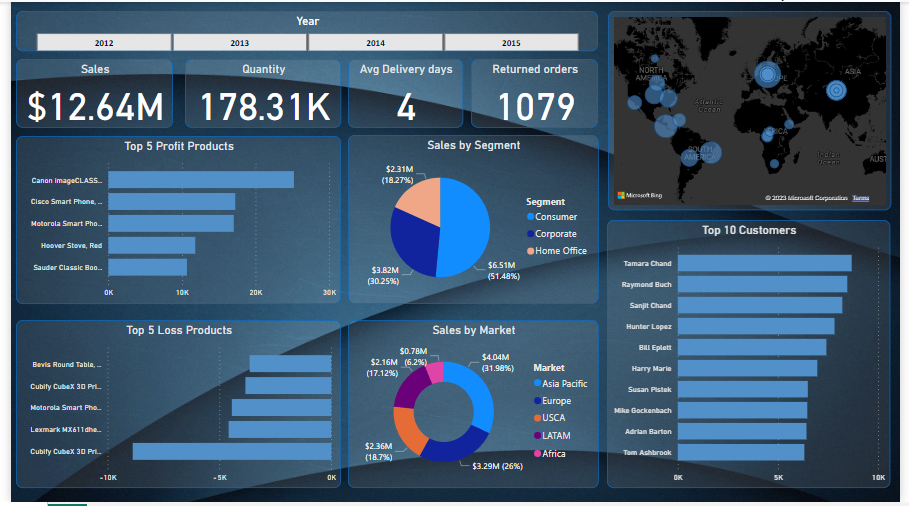

This screenshot's page, from the dashboard's own definition file:
{"tool":"powerbi","page":{"name":"Page 1","canvas":[1280,720],"ordinal":0},"visuals":[{"type":"card","title":"Sales","fields":{"Values":["Orders.Sales"]},"box":[7.2,82.1,226.1,99.4],"z":0},{"type":"card","title":"Quantity","fields":{"Values":["Orders.Quantity"]},"box":[250.6,82.1,224.6,99.4],"z":1000},{"type":"card","title":"Avg Delivery days","fields":{"Values":["Orders.delivery days"]},"box":[485.3,82.1,165.6,99.4],"z":2000},{"type":"slicer","title":"Year","fields":{"Values":["Orders.year"]},"box":[7.2,13,838.1,57.6],"z":3000},{"type":"card","title":"Returned orders","fields":{"Values":["Returns.Return orders"]},"box":[662.4,82.1,182.9,99.4],"z":4000},{"type":"map","fields":{"Size":["Orders.Sales"],"Category":["Orders.Region"]},"box":[859.7,13,407.5,286.6],"z":4001},{"type":"clusteredBarChart","title":"Top 5 Profit Products","fields":{"Category":["Orders.Product Name"],"Y":["Orders.Profit"]},"box":[6.7,192.9,468,241.6],"z":4002},{"type":"clusteredBarChart","title":"Top 5  Loss Products","fields":{"Category":["Orders.Product Name"],"Y":["Orders.Profit"]},"box":[7.2,457.9,468,241.9],"z":4003},{"type":"pieChart","title":"Sales by Segment","fields":{"Category":["Orders.Segment"],"Y":["Orders.Sales"]},"box":[484.8,191.2,360.7,243.3],"z":4004},{"type":"donutChart","title":"Sales by Market","fields":{"Y":["Orders.Sales"],"Category":["Orders.Market"]},"box":[484.8,458,360.7,241.6],"z":4005},{"type":"barChart","title":"Top 10 Customers","fields":{"Category":["Orders.Customer Name"],"Y":["Orders.Profit"]},"box":[858.9,313.7,407.7,385.8],"z":4006}]}

Visuals, with their boxes in screenshot pixels (x1, y1, x2, y2), scaled from the page's 1280x720 canvas onto the 909x506 screenshot:
"Sales" card: crop(5, 58, 166, 128)
"Quantity" card: crop(178, 58, 337, 128)
"Avg Delivery days" card: crop(345, 58, 462, 128)
"Year" slicer: crop(5, 9, 600, 50)
"Returned orders" card: crop(470, 58, 600, 128)
map - Orders.Sales x Orders.Region: crop(611, 9, 900, 211)
"Top 5 Profit Products" clusteredBarChart: crop(5, 136, 337, 305)
"Top 5  Loss Products" clusteredBarChart: crop(5, 322, 337, 492)
"Sales by Segment" pieChart: crop(344, 134, 600, 305)
"Sales by Market" donutChart: crop(344, 322, 600, 492)
"Top 10 Customers" barChart: crop(610, 220, 899, 492)
